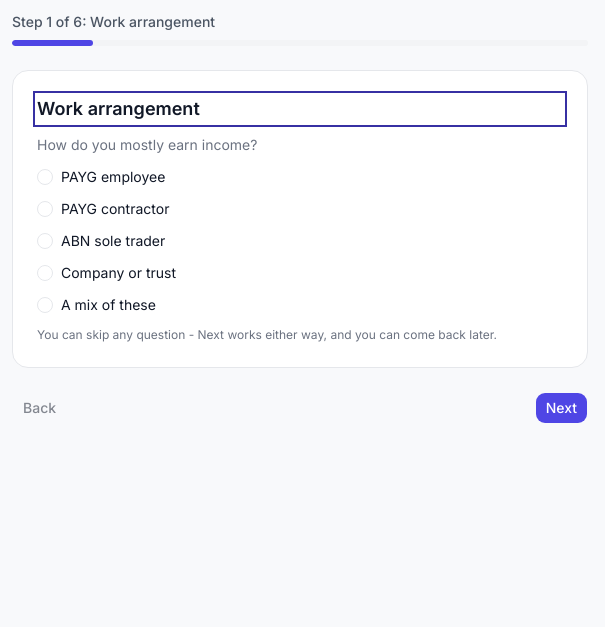
Test: TaxProfileWizard › allows advancing through every step without answering (fully skippable)
The image size is (605, 627).
Click the button "Next": [561, 408] box x1=535 y1=392 x2=588 y2=424
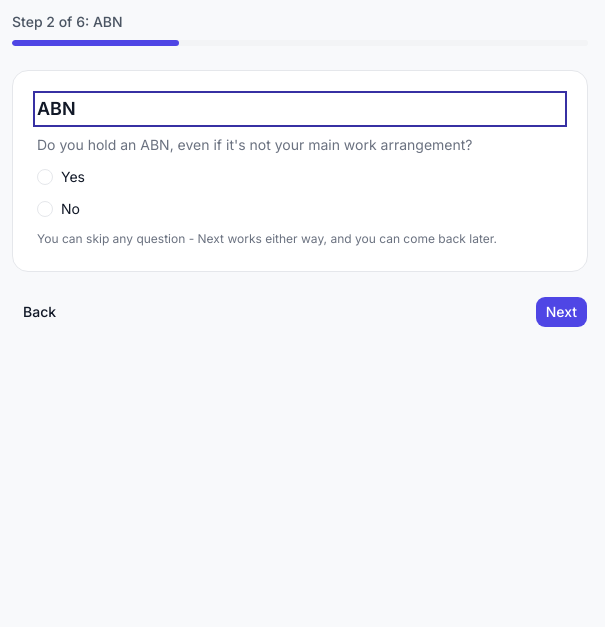
Click the button "Next": [561, 312] box x1=535 y1=296 x2=588 y2=328
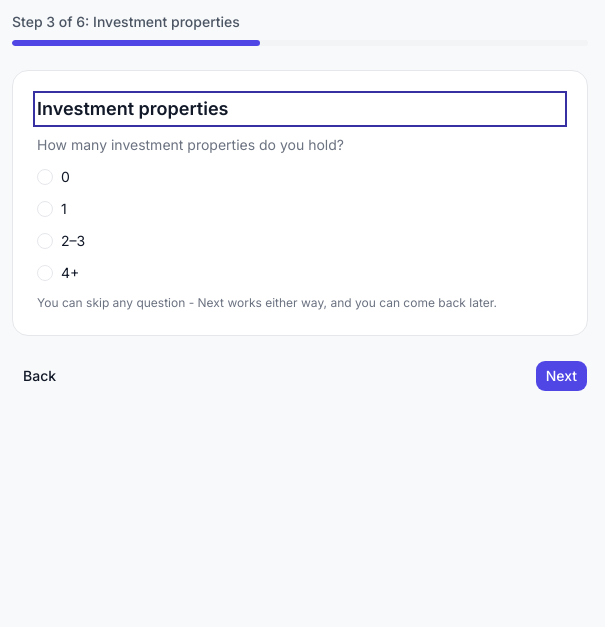
Click the button "Next": [561, 376] box x1=535 y1=360 x2=588 y2=392
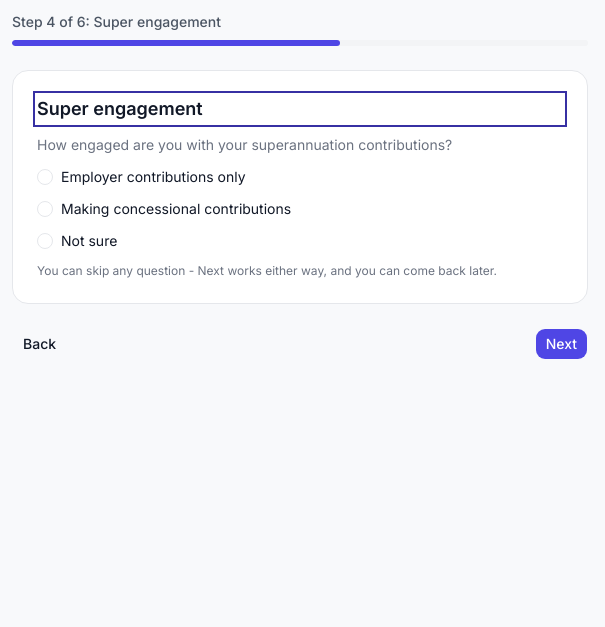
Click the button "Next": [561, 344] box x1=535 y1=328 x2=588 y2=360
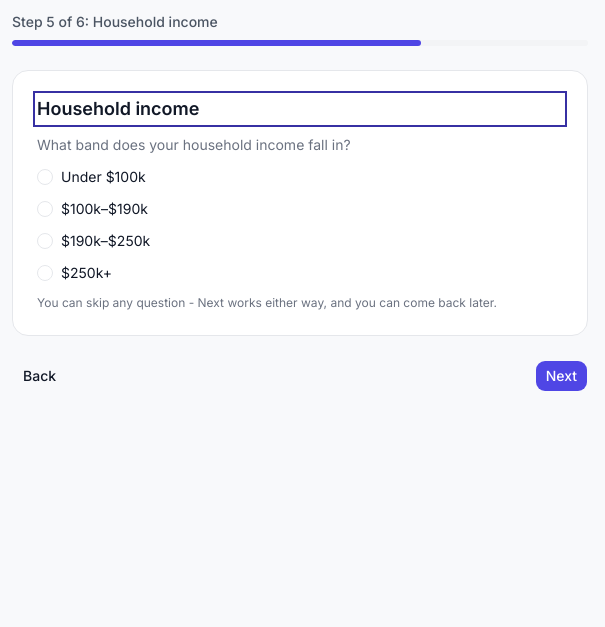
Click the button "Next": [561, 376] box x1=535 y1=360 x2=588 y2=392
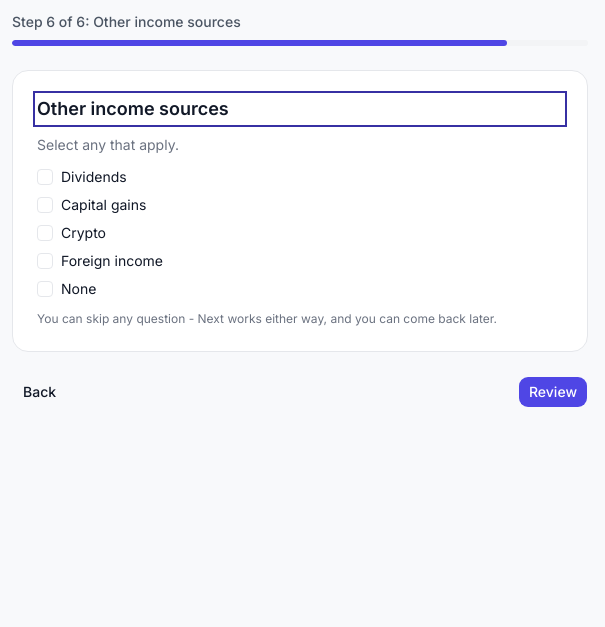
Click the button "Review": [553, 392] box x1=518 y1=376 x2=588 y2=408
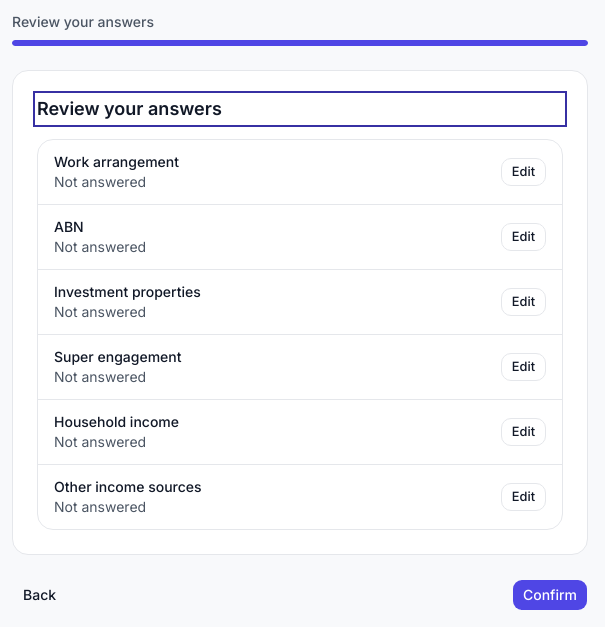
Expected: the heading "Review your answers" is shown, x1=37 y1=98 x2=222 y2=119
Expected: the text "Not answered" is shown 6 times, x1=54 y1=173 x2=146 y2=190; x1=54 y1=237 x2=146 y2=257; x1=54 y1=303 x2=146 y2=320; x1=54 y1=368 x2=146 y2=385; x1=54 y1=433 x2=146 y2=450; x1=54 y1=498 x2=146 y2=515
